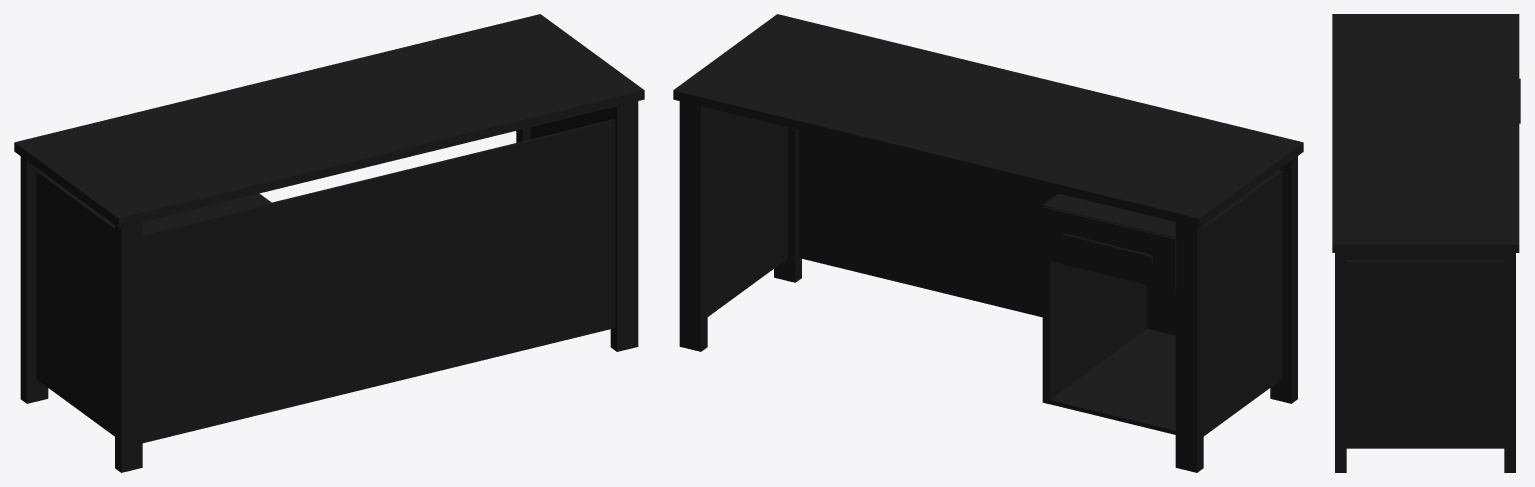
The model's file is Table.fbx.
3 renders of one model, left to right at view 1: azimuth 30°, elevation 25°; view 2: azimuth 150°, elevation 25°; view 3: azimuth 270°, elevation 25°, orthographic. The views are drawn at different scales.
Parts seen in each view (by area): view 1: table3__1_; view 2: table3__1_; view 3: table3__1_.
Boxes of the visible parts, x1,y1,x2,y2 form: table3__1_: [14, 14, 644, 472]; table3__1_: [673, 14, 1303, 472]; table3__1_: [1332, 14, 1520, 472].
Bounding box in the file's own units: 199 × 92.78 × 68.77.
